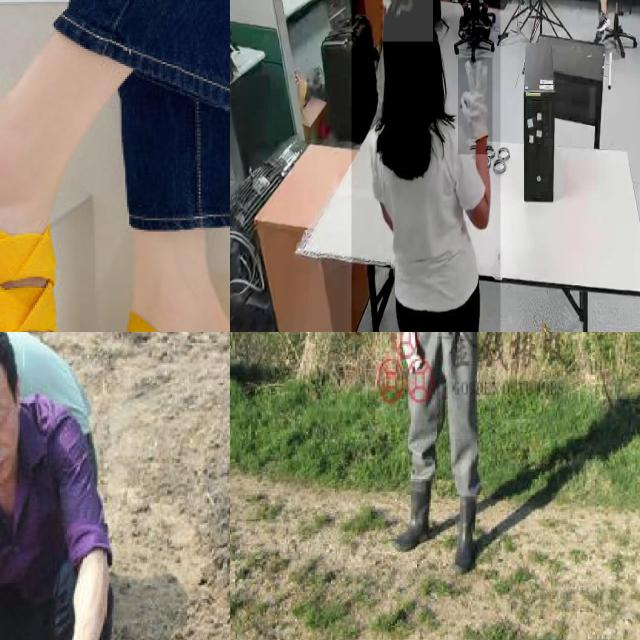Sandals: (0, 116, 74, 332)
boots: (387, 477, 436, 557), (449, 495, 485, 576)
face_nomask: (0, 392, 33, 483)
hand_glove: (458, 58, 492, 154), (400, 332, 421, 375)
head_nohelmet: (382, 0, 433, 42)
person: (351, 0, 500, 332), (0, 332, 155, 640), (384, 332, 518, 567), (595, 0, 640, 35)
shoes: (477, 0, 494, 32), (457, 4, 473, 30), (596, 10, 610, 36)
